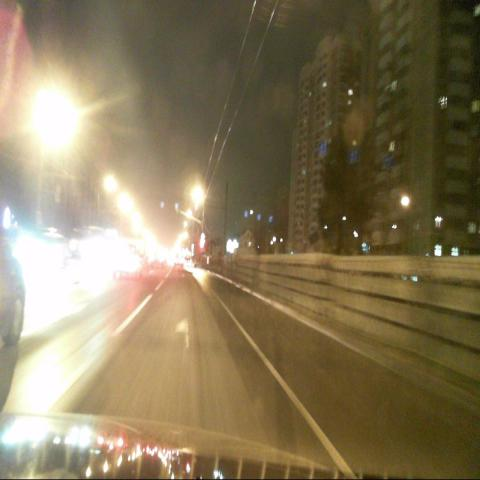5_15_2: (318, 141, 326, 157)
